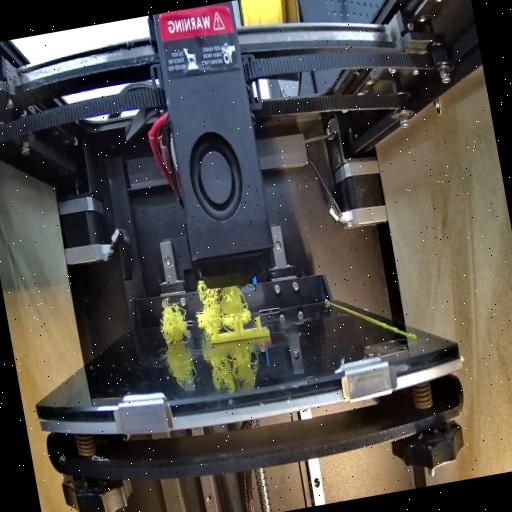spaghetti: (190, 270, 252, 335), (158, 302, 190, 340)
